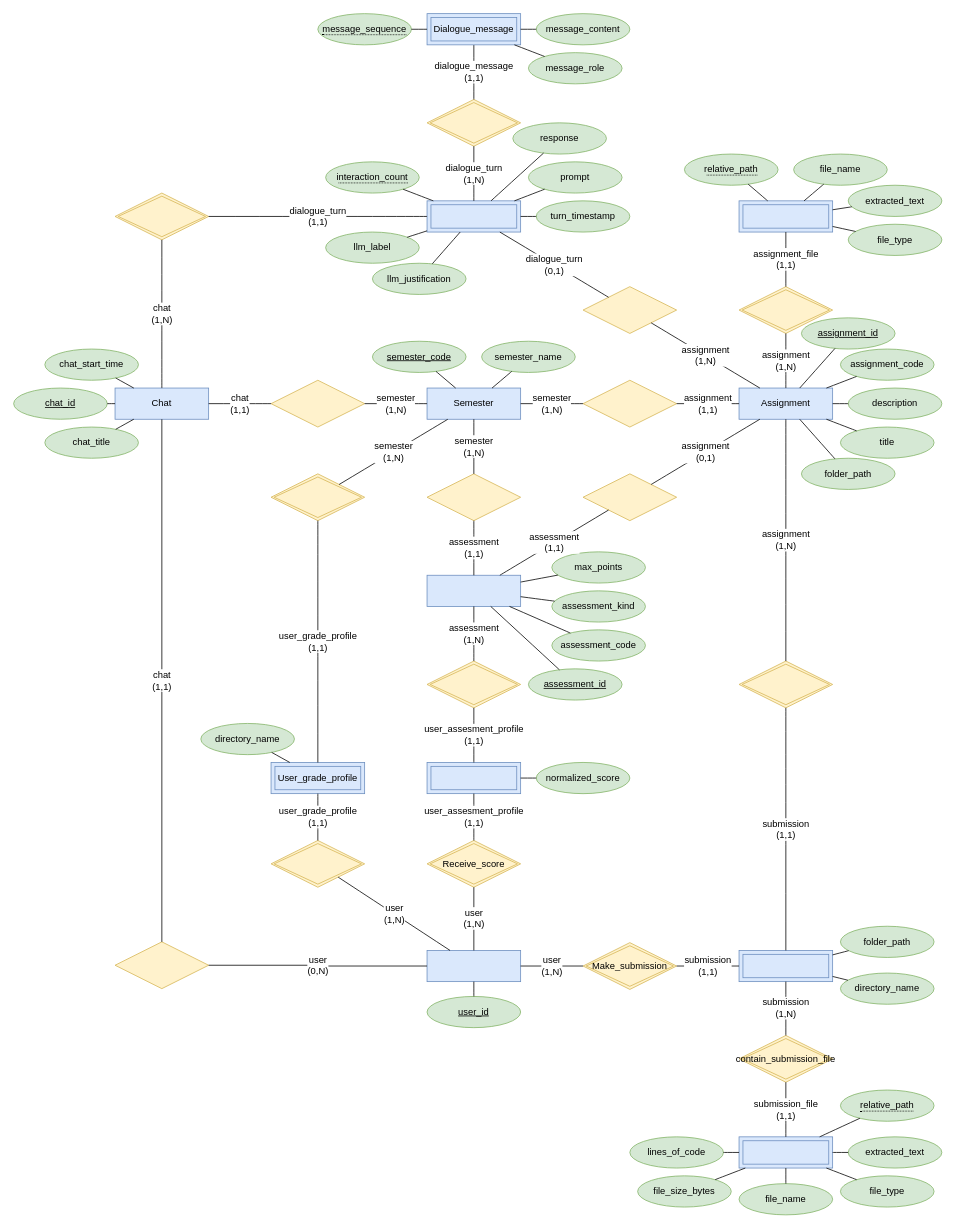
The diagram is 955 pixels wide and 1229 high, and some of its shapes have lost their labels. Here are the shapes that lost their labels. From the top down, the box of each, then its label:
(426, 99, 521, 146): Contain_message
(114, 192, 209, 240): Contain_turn
(426, 200, 521, 232): Dialogue_turn
(738, 200, 833, 232): Assignment_file
(582, 286, 677, 333): About
(738, 286, 833, 333): Has_assignment_file
(270, 379, 365, 427): Belong_to
(582, 379, 677, 427): Offered_in
(426, 473, 521, 521): defined_in
(582, 473, 677, 521): Linked_assignment
(426, 574, 521, 606): Assessment
(738, 660, 833, 708): Receive_submission
(426, 762, 521, 794): User_assesment_score
(270, 840, 365, 887): Has_grade_profile
(114, 941, 209, 989): Own
(426, 950, 521, 982): User
(738, 950, 833, 982): Submission
(738, 1136, 833, 1168): Submission_file
